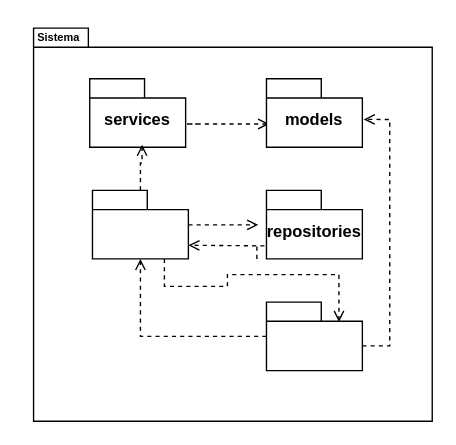
Image size: 456x445. Some labels were removed from this diagram. The centre of each missing label's shape, as x and y in pixels:
"controllers" belongs at [139,224].
"views" belongs at [313,336].
